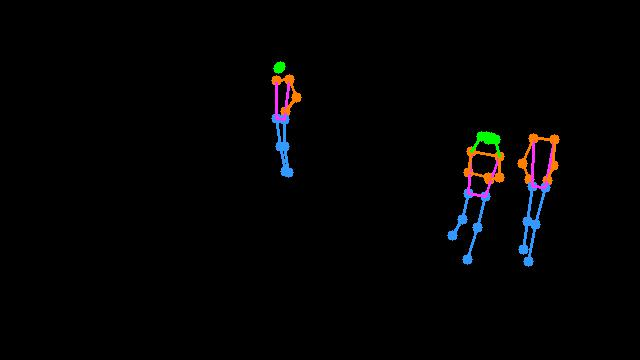normal: (429, 97, 567, 277)
